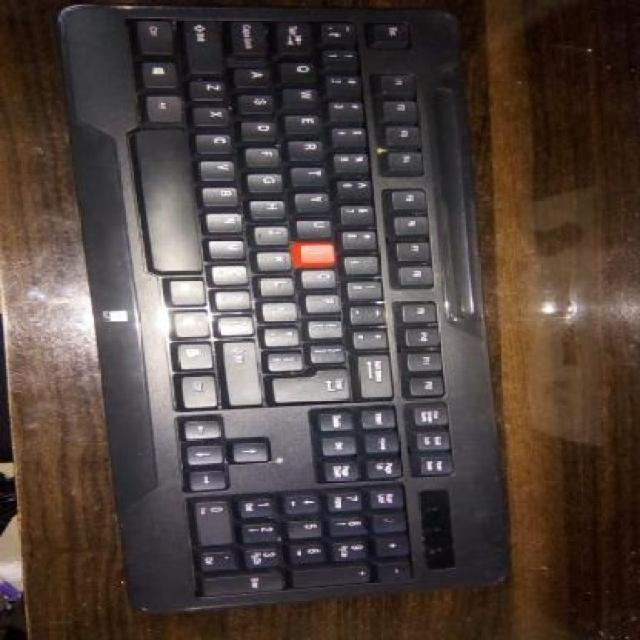keyboard: (53, 0, 465, 613)
